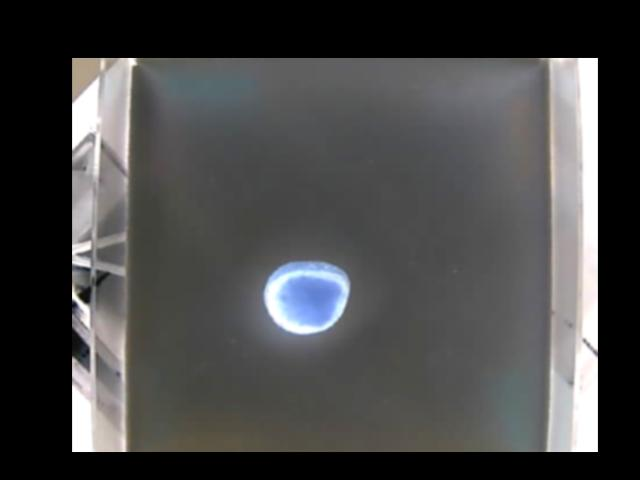Potato: (265, 258, 351, 336)
